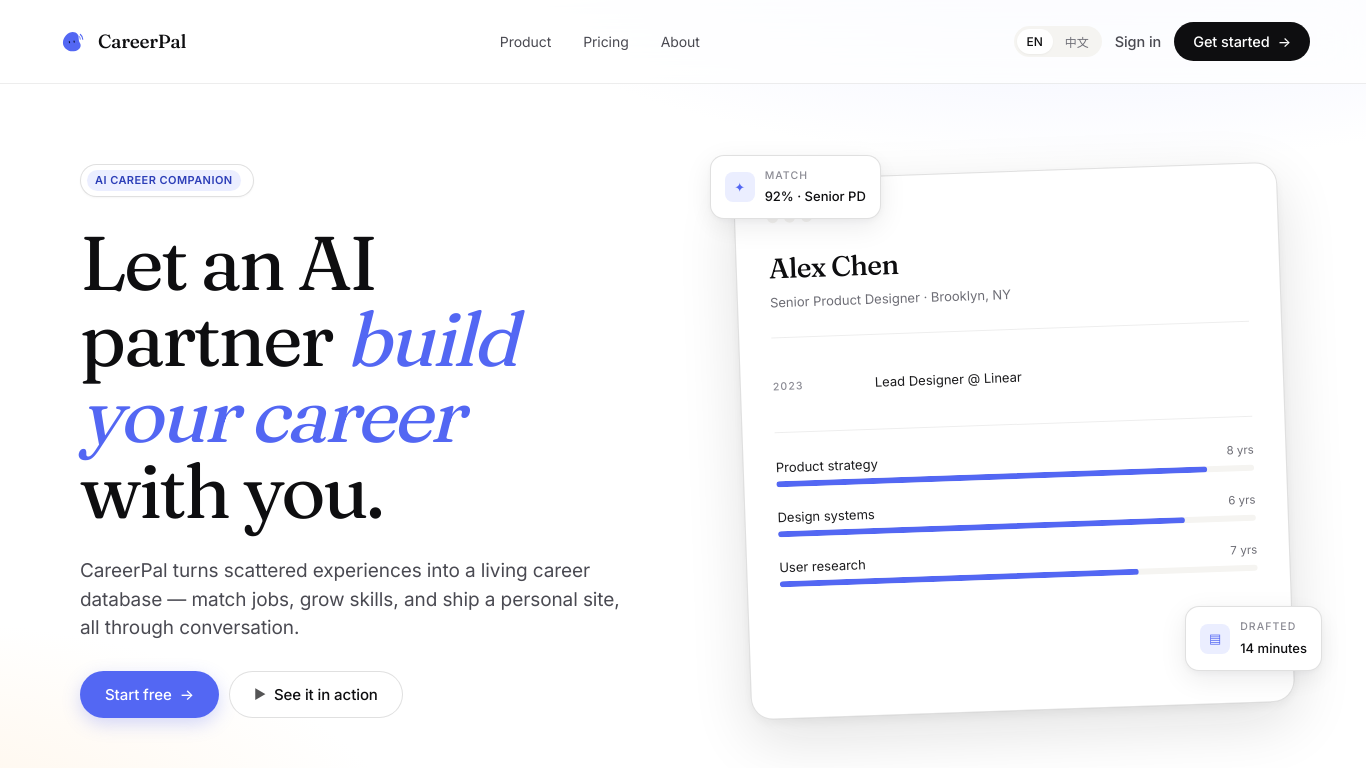
Test case: StageApp › returns to login with a clear message when the saved session expires during workspace load
This screenshot has width=1366, height=768.
Click the button "Sign in" at {"x": 1138, "y": 42}, box [1110,24,1166,59]
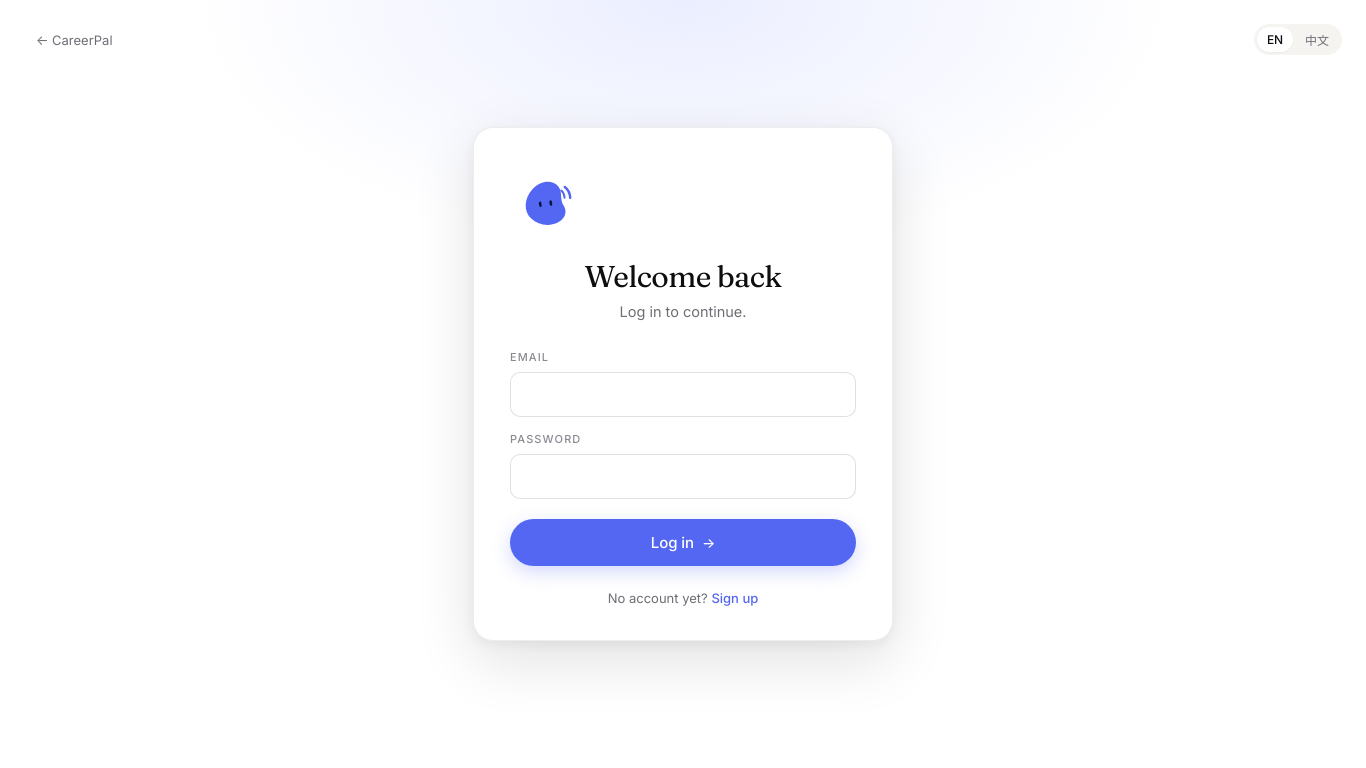
Type "alex@example.com" into the field labelled "Email" at {"x": 683, "y": 394}, box [510,372,856,416]
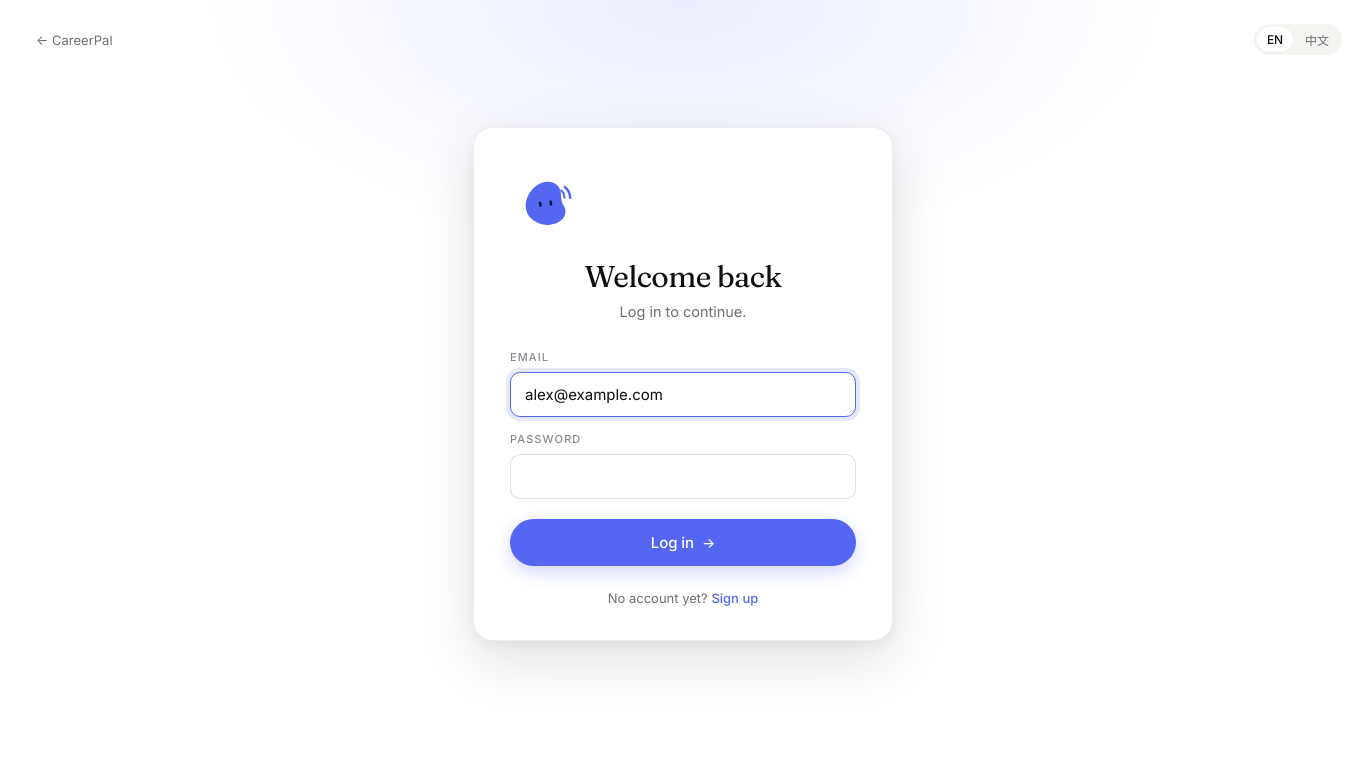
Type "secret123" into the password field labelled "Password" at {"x": 683, "y": 476}, box [510,454,856,499]
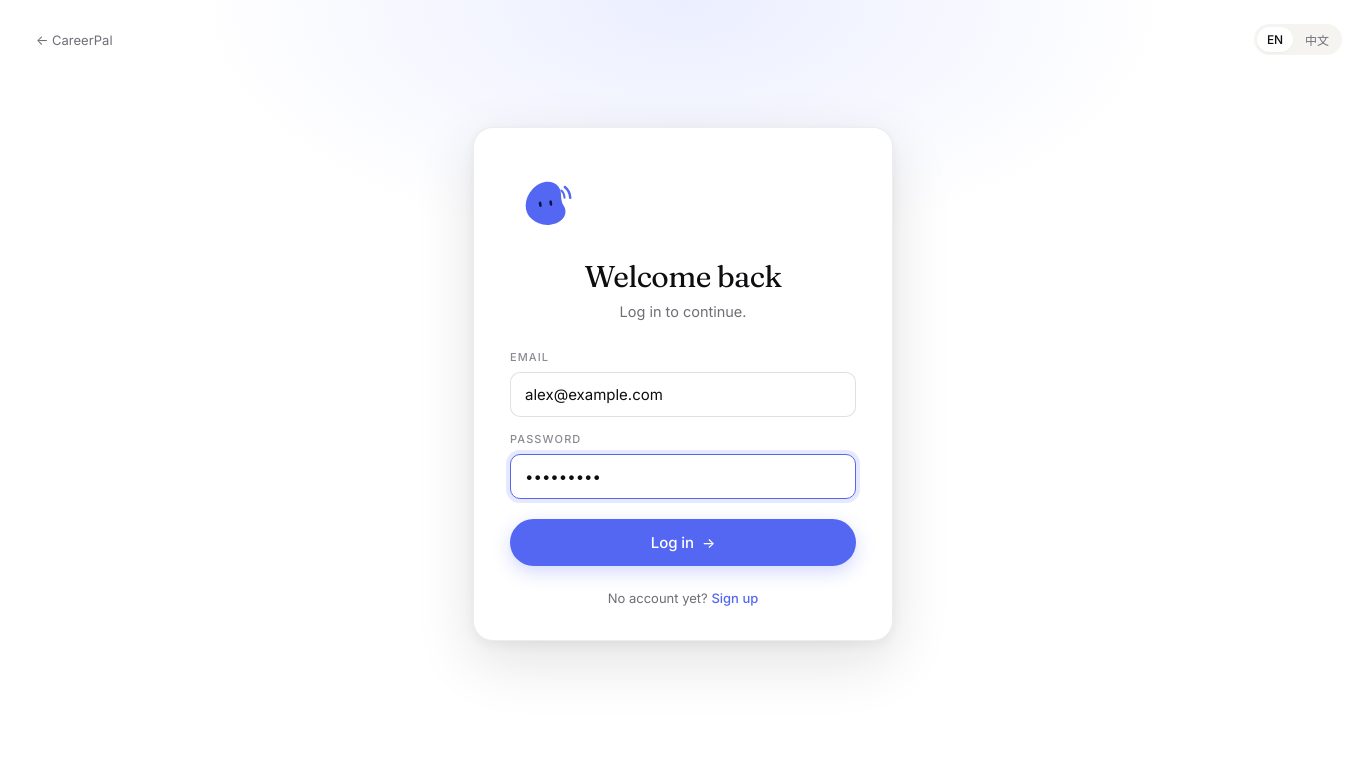
Click the button "Log in →" at {"x": 683, "y": 542}, box [510,519,856,566]
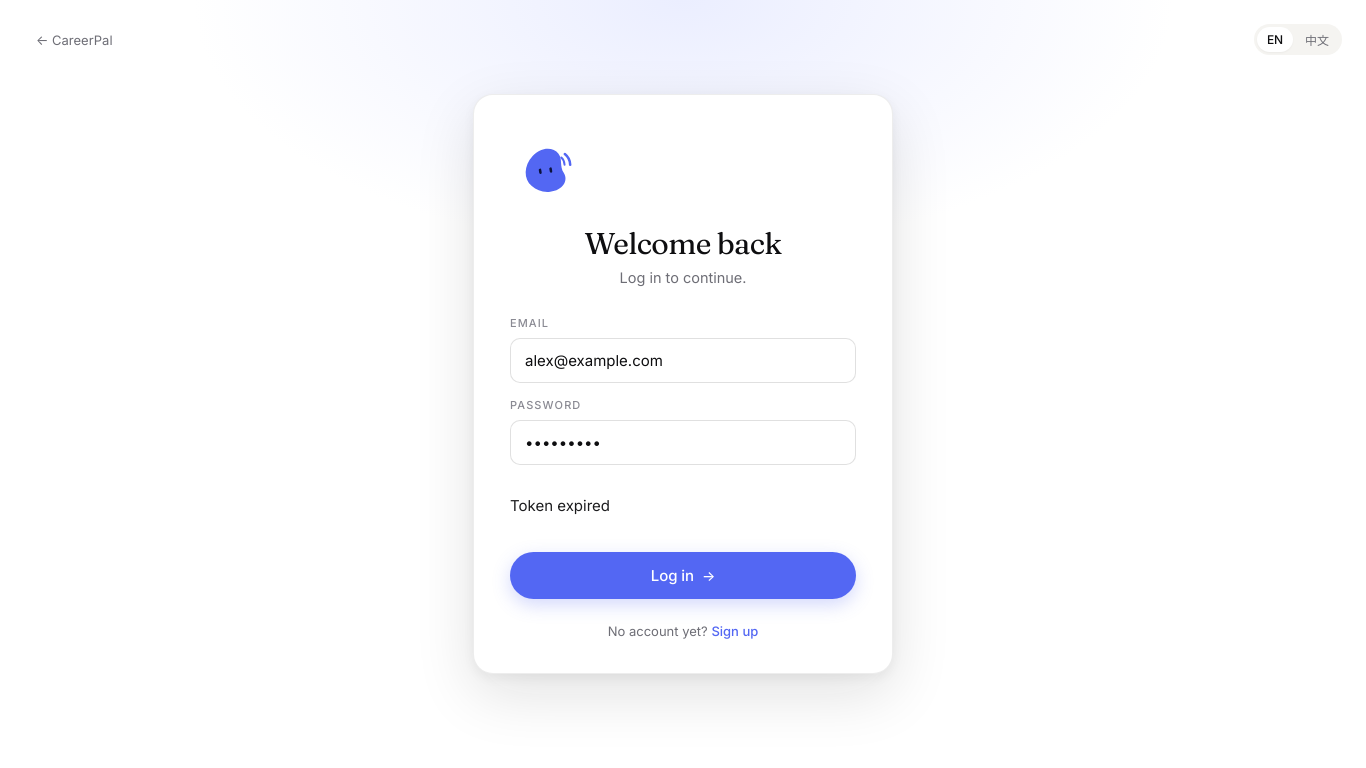
Now the button "Log in →" is shown, box [510,552,856,599]
Now the text "Token expired" is shown, box [510,496,610,515]
